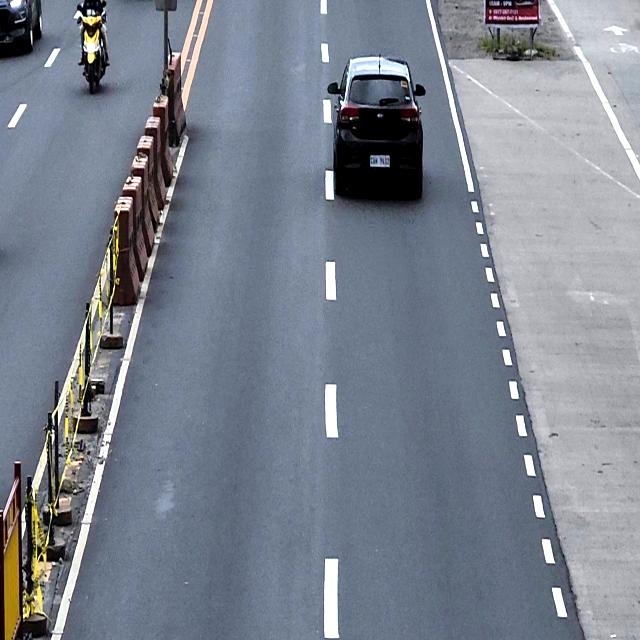Car: (327, 54, 426, 198), (0, 0, 43, 51)
License-Plate: (368, 152, 391, 168)
Motorcycle: (74, 4, 110, 94)
